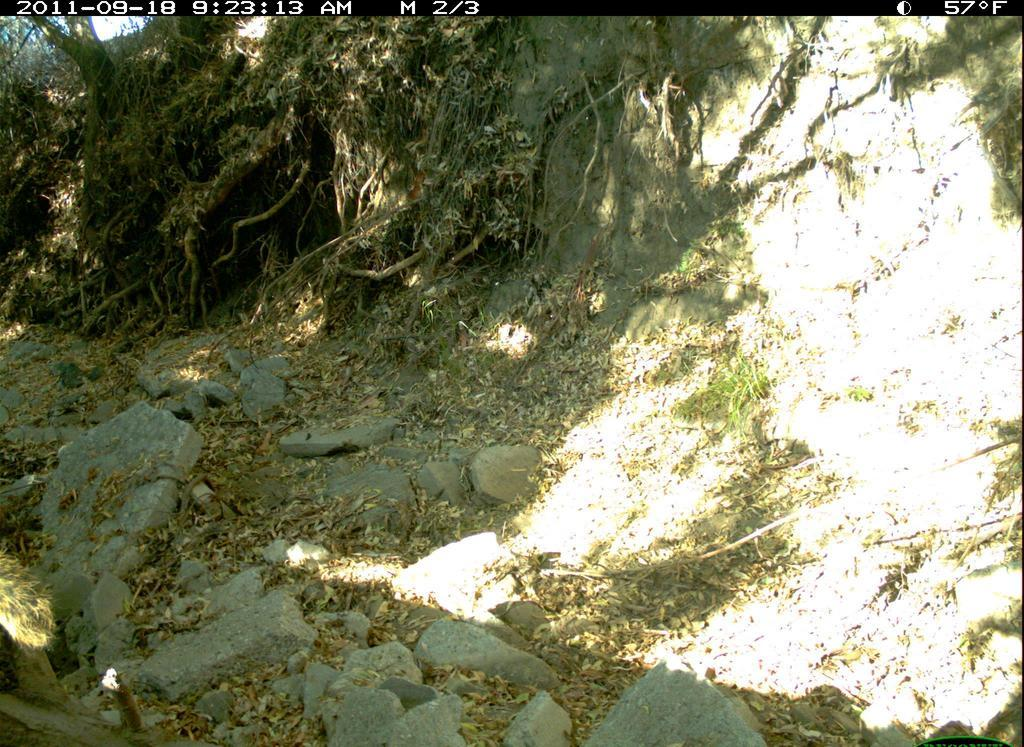squirrel: (1, 542, 67, 660)
